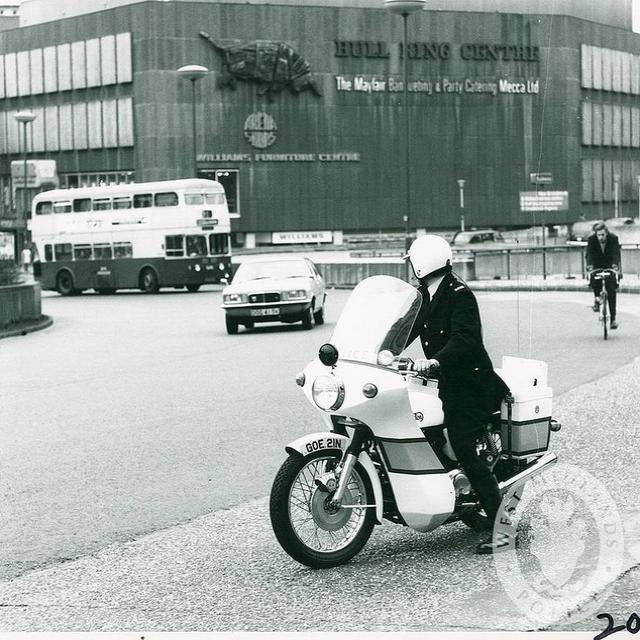motor: (267, 275, 563, 565)
